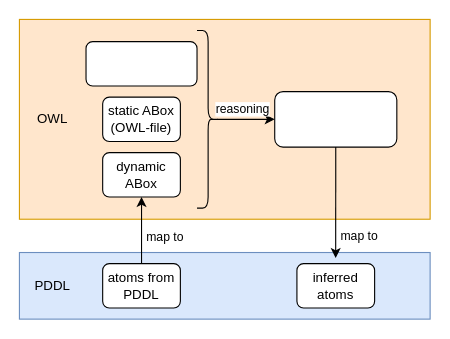
Some shapes in this 450 by 339 pixel diagram are drawn without their labels. Here are the shapes that lost their labels. From the top down, the box of each, then its label:
(85, 41, 197, 86): TBox, icl. SWRL (OWL-file)
(274, 90, 397, 147): inferred class assertions + relations
